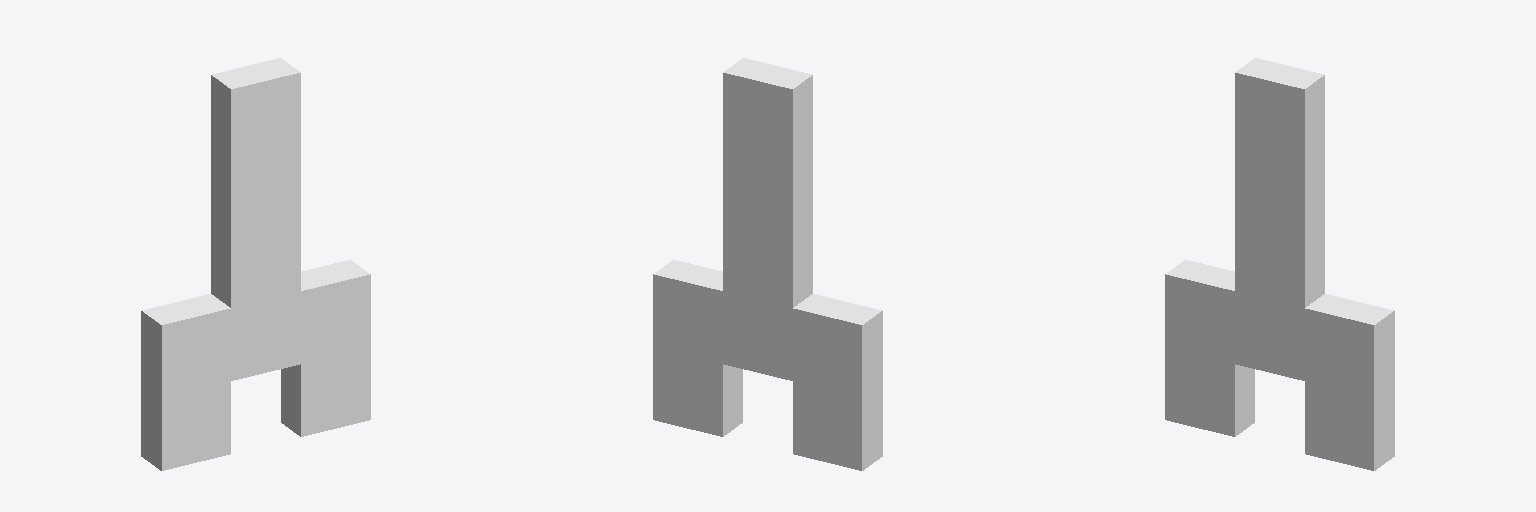
The model's file is MC_MissileAmmo.obj.
3 renders of one model, left to right at view 1: azimuth 30°, elevation 25°; view 2: azimuth 150°, elevation 25°; view 3: azimuth 330°, elevation 25°, orthographic.
Parts seen in each view (by area): view 1: MC_MissileAmmo; view 2: MC_MissileAmmo; view 3: MC_MissileAmmo.
Part boxes in pixels (left/top/right/bottom): MC_MissileAmmo: left=141, top=58, right=370, bottom=470; MC_MissileAmmo: left=653, top=58, right=882, bottom=470; MC_MissileAmmo: left=1165, top=58, right=1394, bottom=470.
Size of the model in its own units: 6 by 10 by 1.